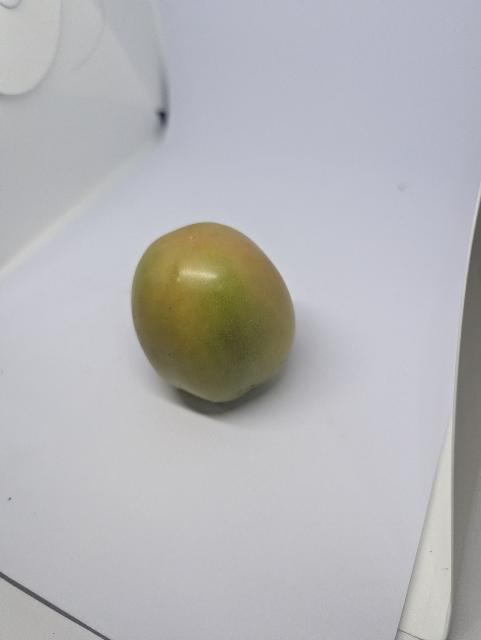breaker: (132, 223, 296, 403)
